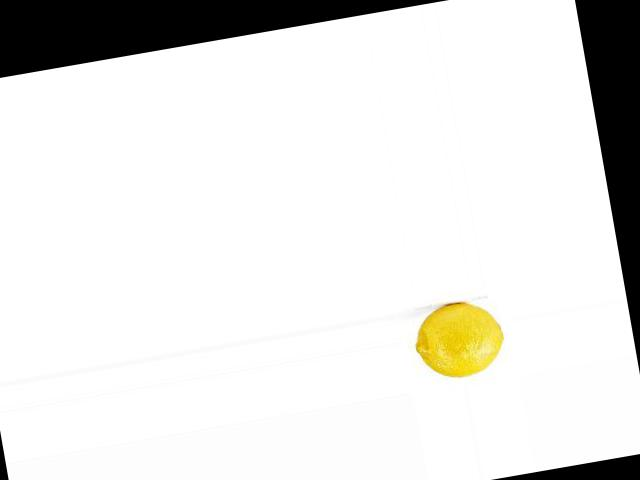lemon: (396, 293, 518, 388)
